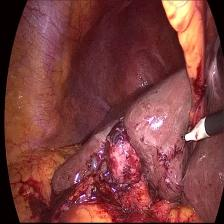Hook: (181, 110, 212, 145)
